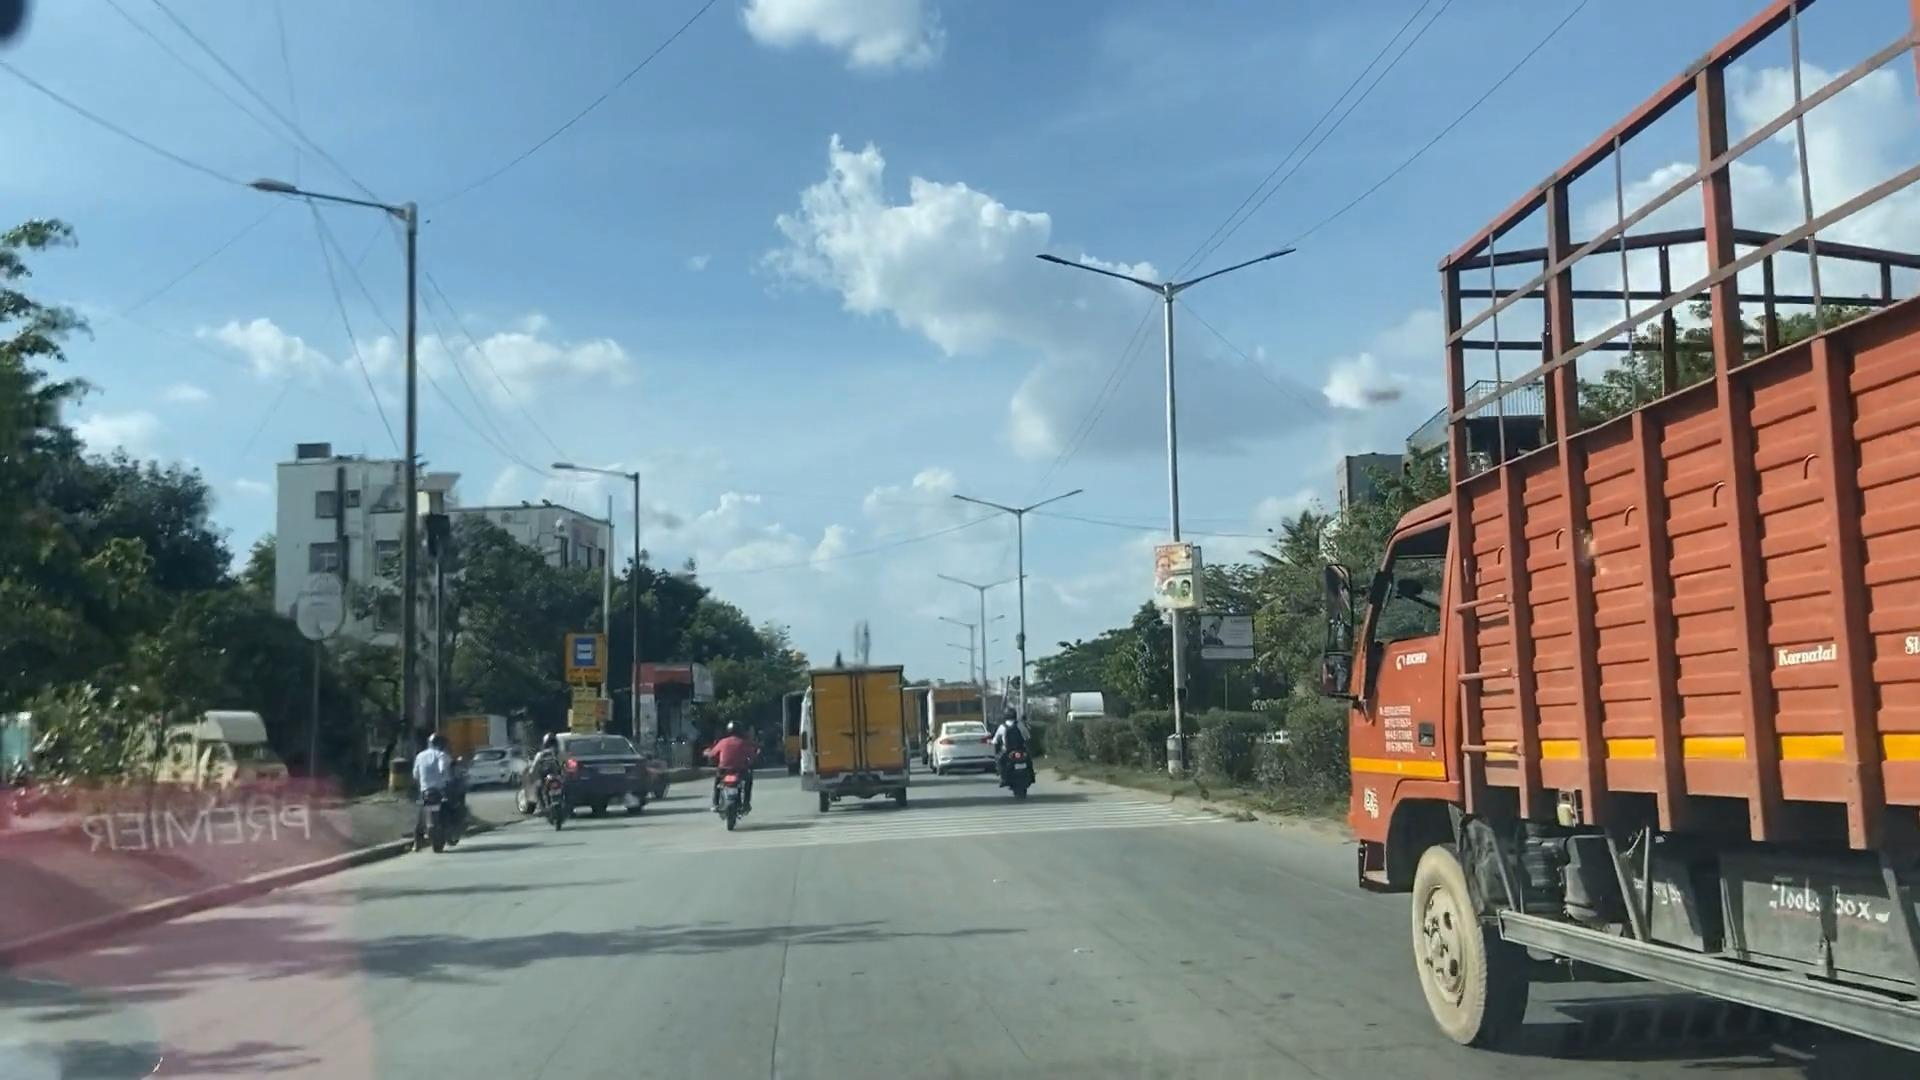HMV: (1377, 224, 1915, 1048), (804, 658, 920, 811)
LMV: (413, 727, 475, 848), (711, 715, 746, 828), (537, 732, 567, 814)
